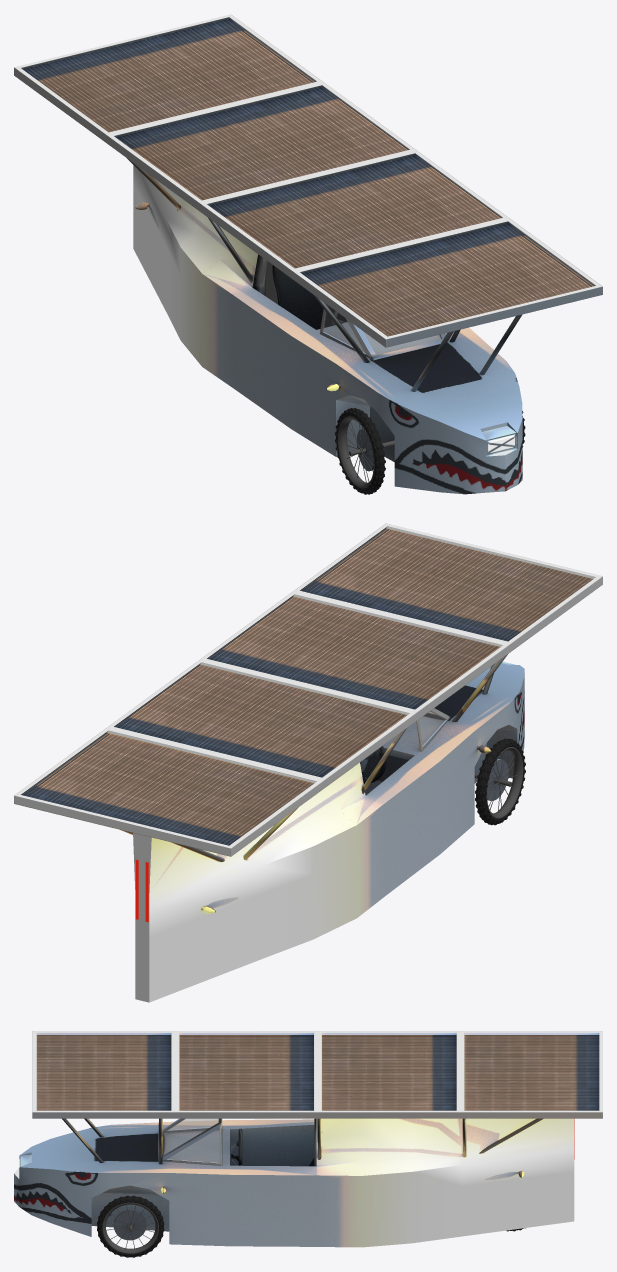
File: DNF-solar-car-model.glb
3 views of the same model, one above another, from view 1: azimuth 30°, elevation 25°; view 2: azimuth 150°, elevation 25°; view 3: azimuth 270°, elevation 25° (orthographic). The views are drawn at different scales.
Visible parts, largest first — view 1: Solar Panels, Aeroshell, Solar Array, Tire.001, Array Supports, Seat, Windshield, Windshield Frame, Headlight Base; view 2: Solar Panels, Aeroshell, Solar Array, Tire.001, Array Supports; view 3: Aeroshell, Solar Panels, Solar Array, Tire, Windshield, Array Supports, Windshield Frame, Cylinder.001.
Part boxes in pixels (bbox=[...]): Solar Panels: bbox=[23, 18, 594, 336]; Aeroshell: bbox=[133, 165, 522, 494]; Solar Array: bbox=[14, 14, 602, 347]; Tire.001: bbox=[335, 408, 385, 494]; Array Supports: bbox=[99, 38, 522, 391]; Seat: bbox=[272, 265, 347, 329]; Windshield: bbox=[323, 306, 440, 354]; Windshield Frame: bbox=[319, 309, 448, 360]; Headlight Base: bbox=[482, 426, 516, 455]; Solar Panels: bbox=[22, 528, 592, 845]; Aeroshell: bbox=[133, 663, 524, 1002]; Solar Array: bbox=[14, 523, 602, 856]; Tire.001: bbox=[475, 738, 525, 825]; Array Supports: bbox=[121, 654, 507, 861]; Aeroshell: bbox=[14, 1118, 574, 1247]; Solar Panels: bbox=[37, 1035, 599, 1110]; Solar Array: bbox=[32, 1031, 602, 1118]; Tire: bbox=[97, 1195, 164, 1257]; Windshield: bbox=[163, 1118, 219, 1162]; Array Supports: bbox=[62, 1118, 543, 1164]; Windshield Frame: bbox=[158, 1118, 222, 1165]; Cylinder.001: bbox=[113, 1210, 146, 1240].
Size of the model in its own units: 4.08 by 3.74 by 12.51.
20 materials, 15 textured.
